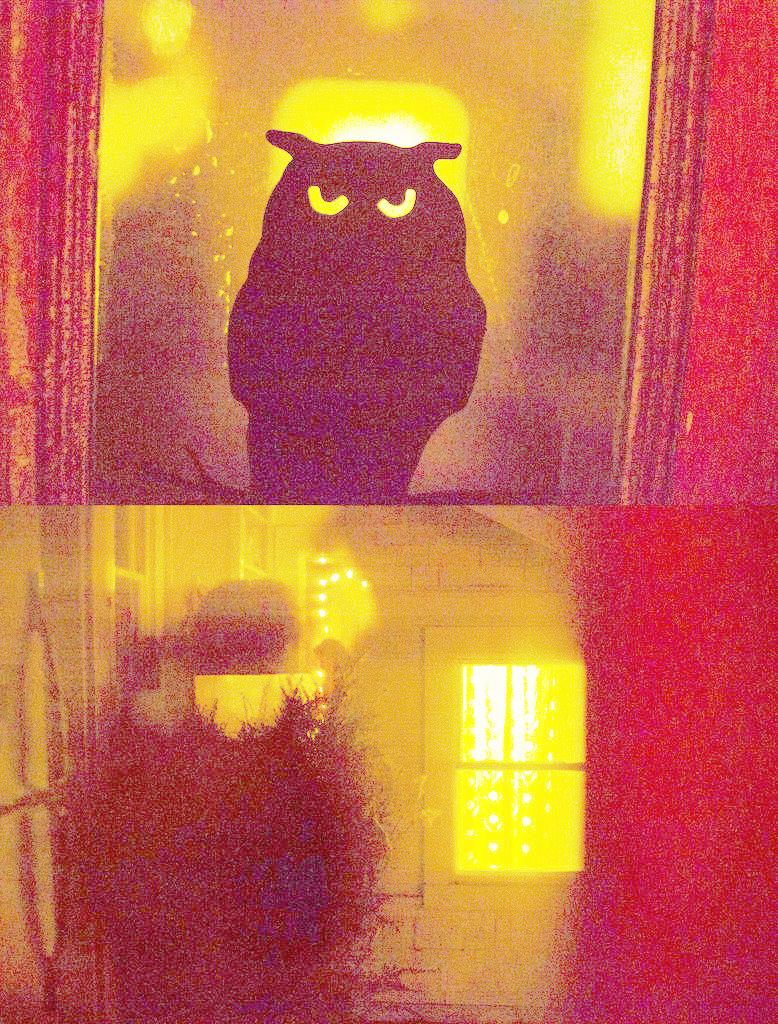Owl: (227, 120, 497, 494)
